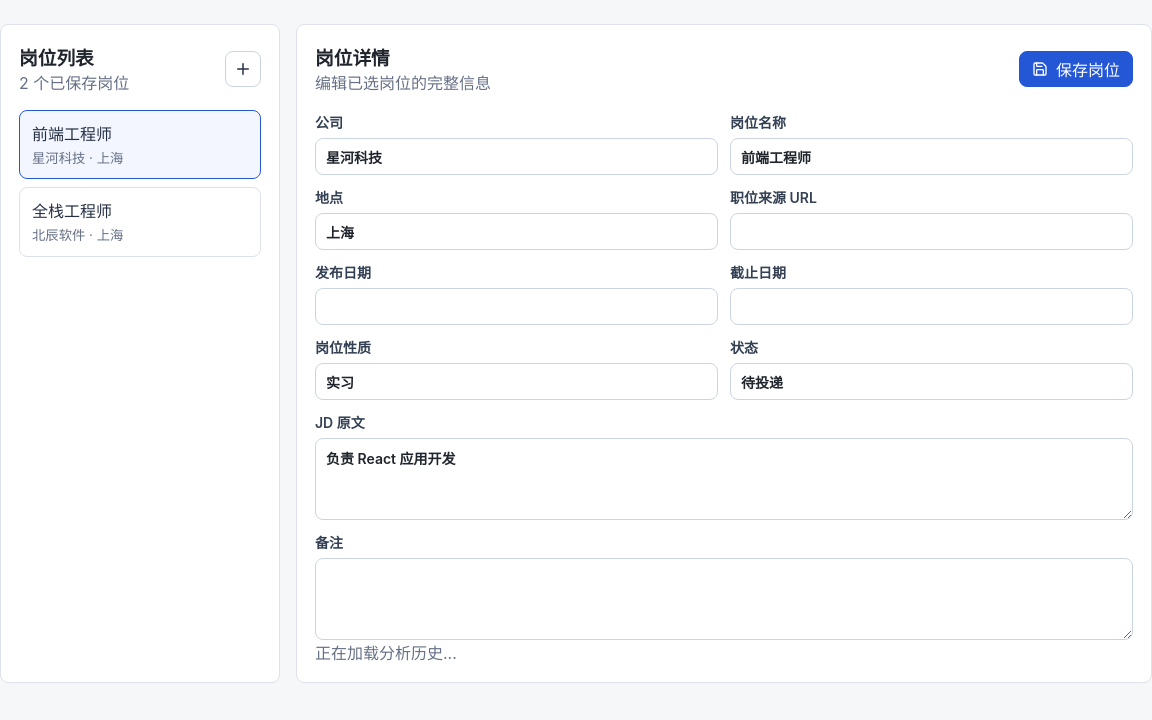
Test case: JobsPage › keeps B's analysis visible when A's history arrives late
The image size is (1152, 720).
Check: the field showing "前端工程师" is shown, box [730,138,1133,175]
Click the button "全栈工程师 北辰软件 · 上海".
click(140, 222)  # box [19,187,261,257]
(page scrolled)
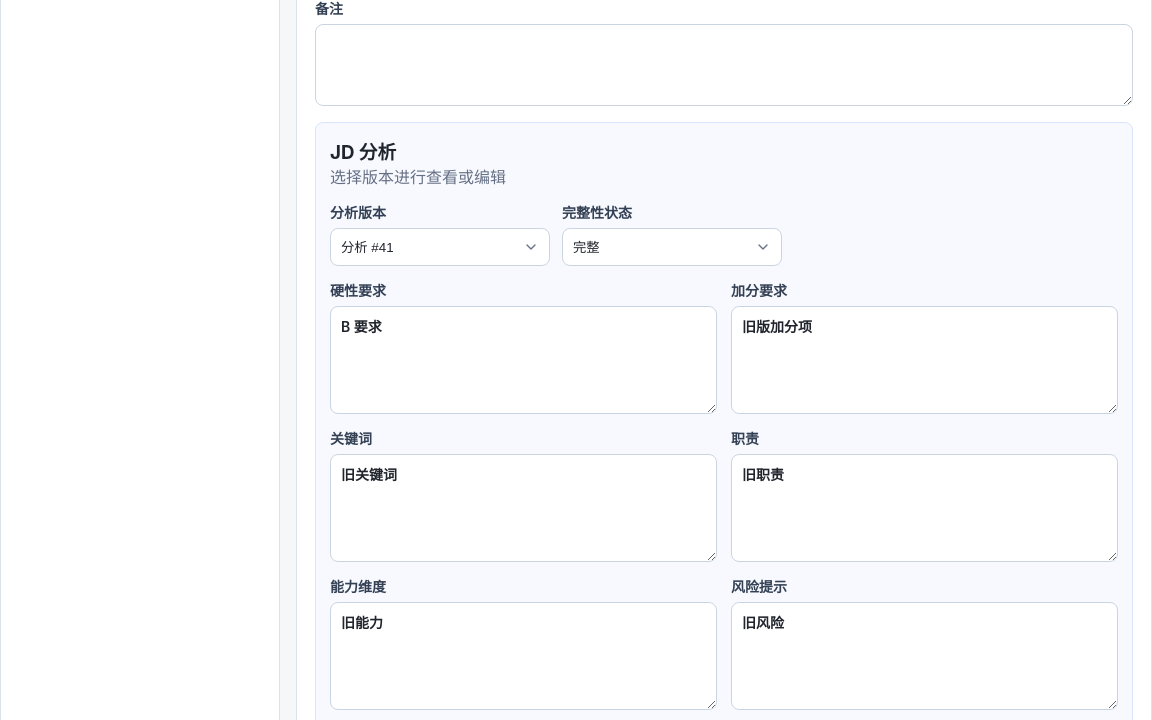
Check: the text box showing "B 要求" is shown, box [330,306,717,414]
